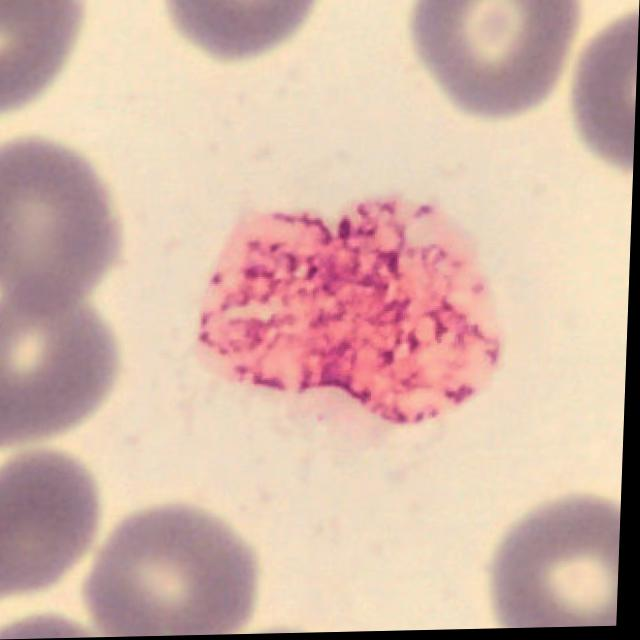Restos celulares: (197, 196, 508, 425)
